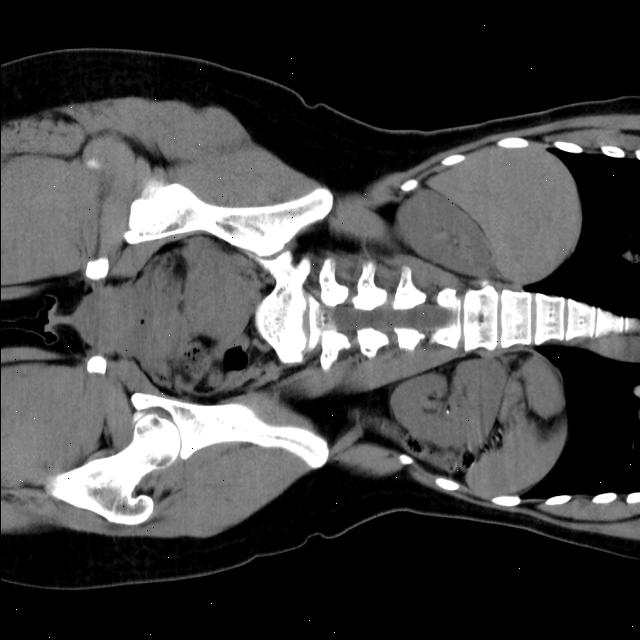kidneystone: (444, 402, 450, 418)
